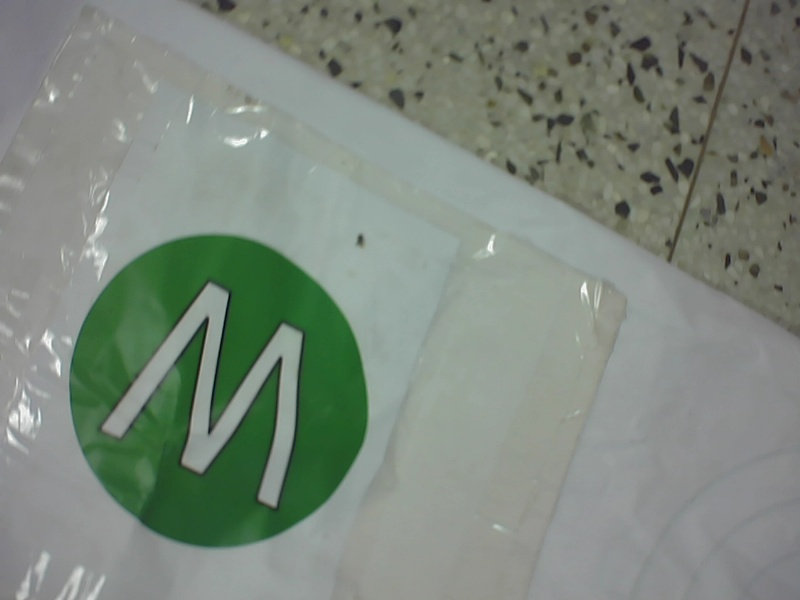areaB: (56, 231, 376, 550)
